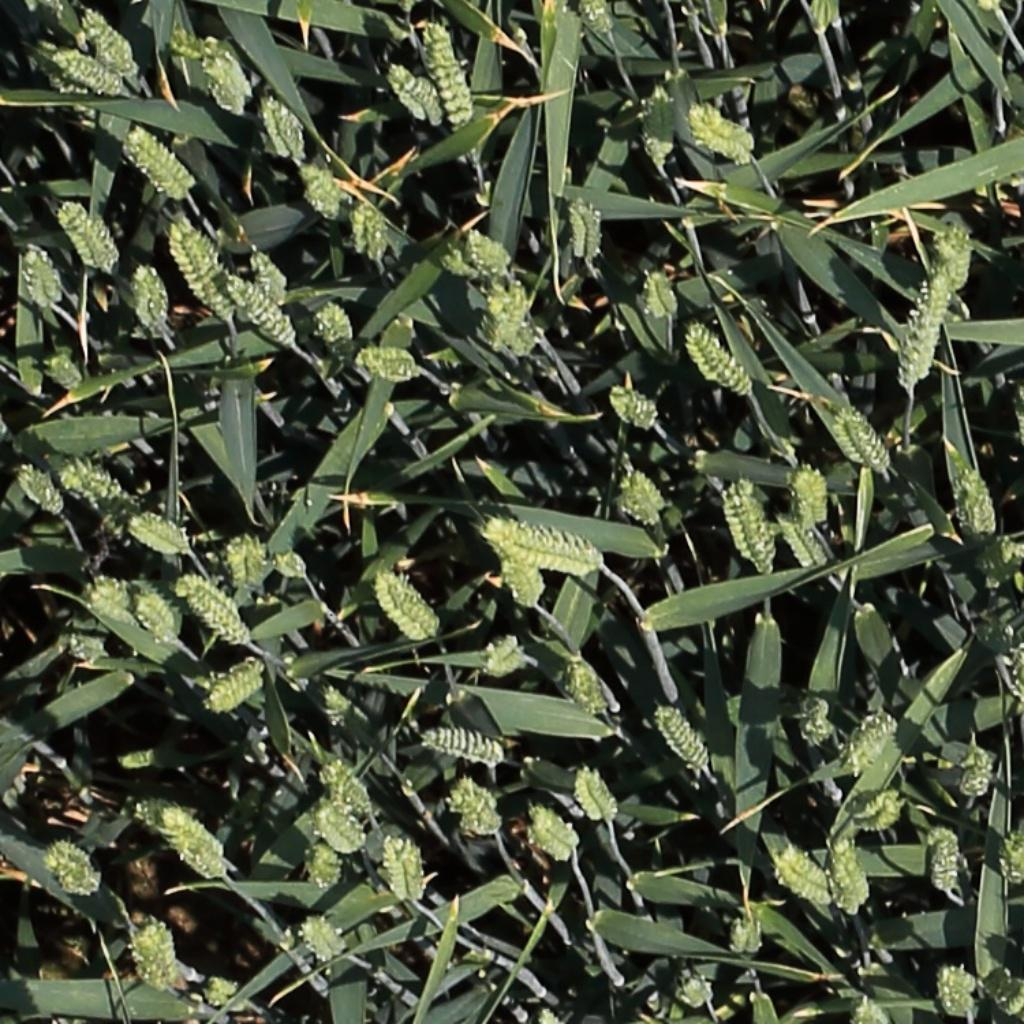0-0: (137, 789, 240, 881), (476, 509, 607, 577), (163, 218, 238, 327), (890, 268, 953, 391), (225, 271, 300, 348), (685, 319, 757, 398), (425, 19, 473, 135), (125, 122, 193, 197), (686, 103, 761, 170), (374, 570, 442, 643), (653, 703, 716, 778), (79, 4, 140, 80), (57, 190, 112, 273), (195, 32, 251, 110), (819, 395, 875, 471), (770, 846, 838, 907), (724, 474, 765, 570), (386, 61, 447, 125), (950, 463, 998, 544), (258, 88, 308, 165), (328, 762, 383, 832), (927, 211, 972, 296), (62, 462, 137, 513), (846, 711, 902, 779), (420, 721, 506, 763), (82, 572, 144, 630), (131, 910, 175, 991), (967, 533, 1024, 595), (44, 835, 99, 898), (778, 510, 831, 574), (499, 542, 546, 614), (296, 154, 345, 223), (223, 529, 272, 598), (619, 462, 667, 531), (51, 47, 124, 92), (574, 763, 621, 831), (563, 652, 610, 720), (834, 836, 872, 918), (355, 343, 424, 388), (380, 834, 419, 913), (15, 461, 66, 520), (449, 783, 505, 836), (21, 241, 62, 312), (248, 243, 290, 311), (131, 588, 181, 645), (566, 190, 603, 267), (527, 805, 582, 856), (645, 81, 674, 173), (133, 256, 167, 334), (314, 804, 367, 854), (978, 965, 1024, 1022), (464, 225, 514, 277), (316, 293, 357, 356), (207, 670, 266, 712), (300, 914, 345, 969), (354, 192, 386, 267), (610, 383, 660, 431), (937, 962, 977, 1021), (798, 458, 828, 536), (128, 516, 189, 554), (959, 744, 995, 808), (730, 906, 767, 964), (932, 823, 959, 902), (644, 262, 678, 323), (802, 690, 834, 752), (433, 246, 482, 284), (311, 836, 341, 898), (43, 350, 86, 390), (999, 827, 1024, 894), (857, 797, 905, 831), (580, 0, 618, 40), (853, 988, 890, 1024), (274, 546, 310, 577), (812, 0, 838, 42)
